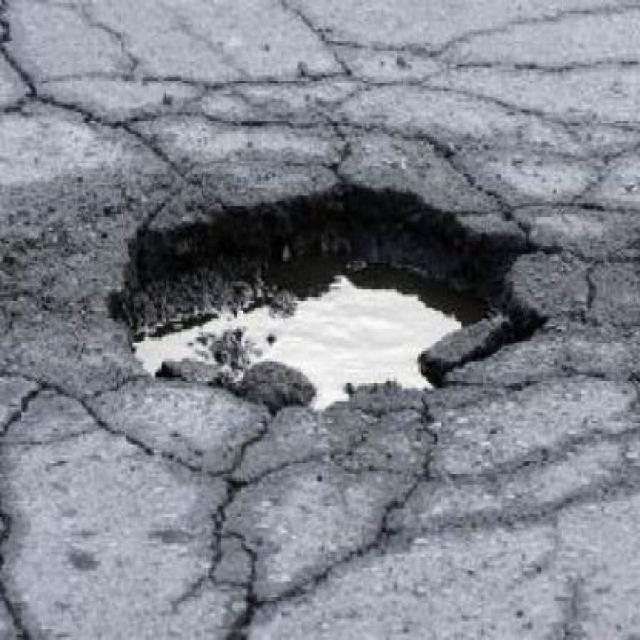Pothole: (102, 163, 548, 426)
